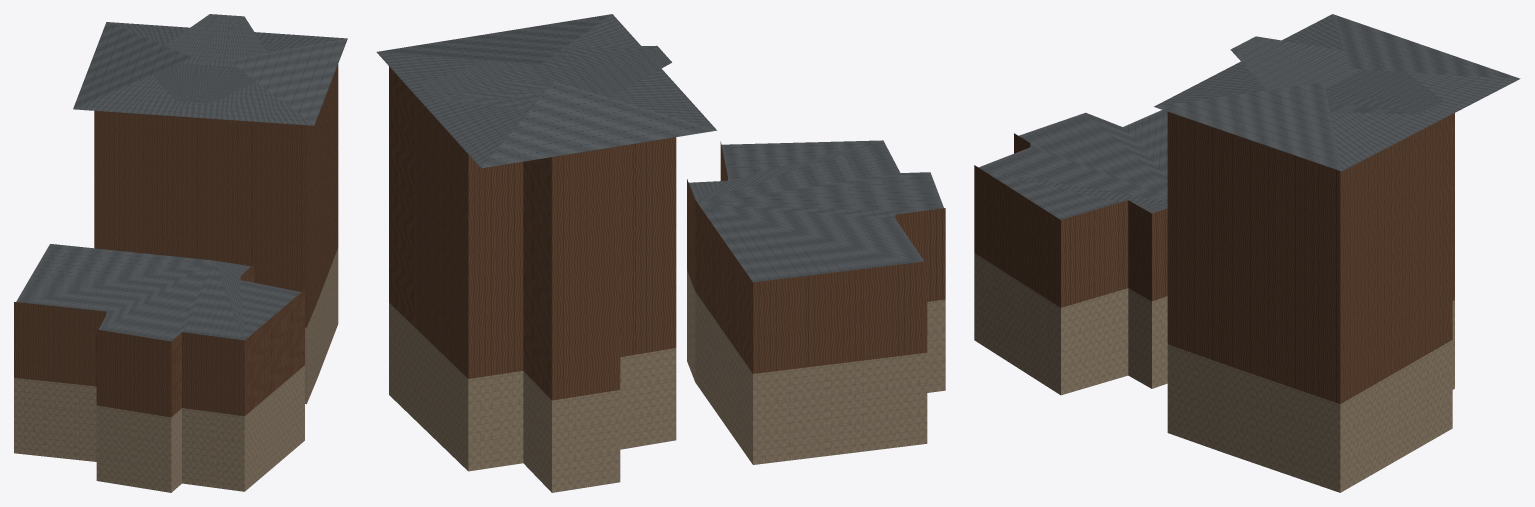
File: bld_c-9_42_523.gltf
The picture shows the model from 3 angles, left to right: view 1: azimuth 30°, elevation 25°; view 2: azimuth 150°, elevation 25°; view 3: azimuth 270°, elevation 25°; orthographic projection. The views are drawn at different scales.
Parts seen in each view (by area): view 1: bld_c-9_42_523; view 2: bld_c-9_42_523; view 3: bld_c-9_42_523.
Boxes of the visible parts, left/top/right/bottom form: bld_c-9_42_523: left=14, top=14, right=347, bottom=492; bld_c-9_42_523: left=376, top=14, right=945, bottom=492; bld_c-9_42_523: left=974, top=14, right=1520, bottom=492.
Bounding box in the file's own units: 27.54 × 19.8 × 28.47.
Materials: 4 (4 with a texture image).
